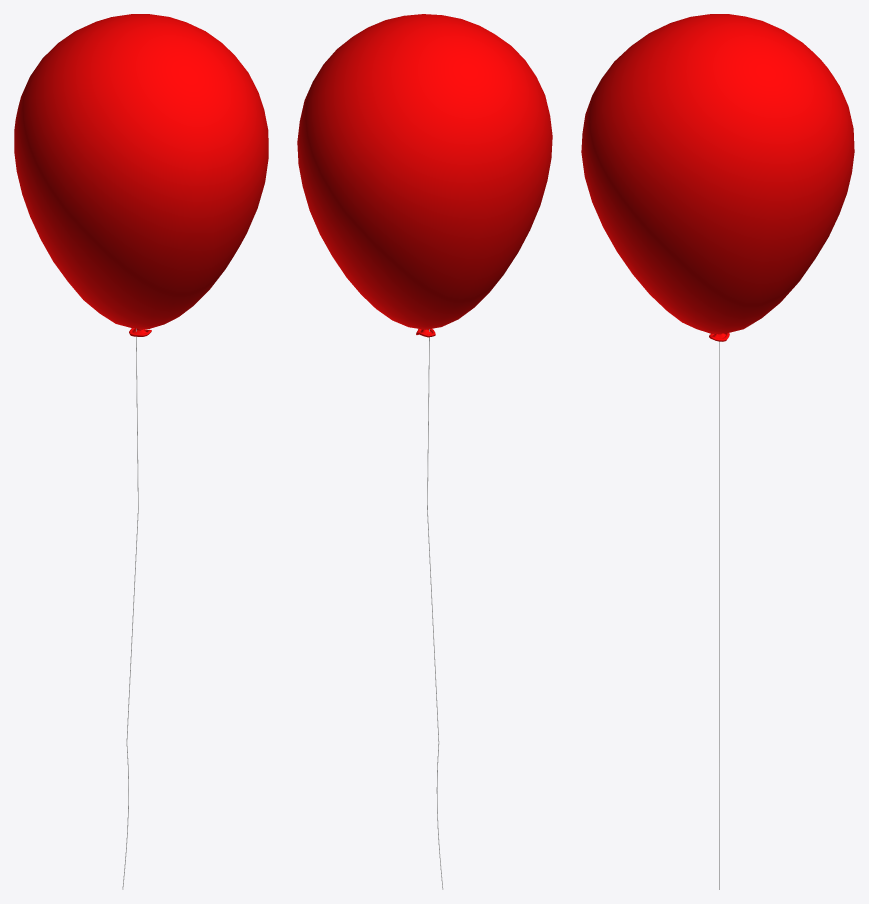
Rendered from balloon.FBX.
3 renders of one model, left to right at view 1: azimuth 30°, elevation 25°; view 2: azimuth 150°, elevation 25°; view 3: azimuth 270°, elevation 25°, orthographic.
Parts seen in each view (by area): view 1: GeoSphere01, Line02; view 2: GeoSphere01, Line02; view 3: GeoSphere01, Line02.
Boxes of the visible parts, <box> form: GeoSphere01: <box>14,14,268,329</box>; Line02: <box>122,328,138,889</box>; GeoSphere01: <box>297,14,552,329</box>; Line02: <box>427,329,443,889</box>; GeoSphere01: <box>581,14,854,333</box>; Line02: <box>719,341,719,889</box>.
Bounding box in the file's own units: 250 × 944 × 268.
